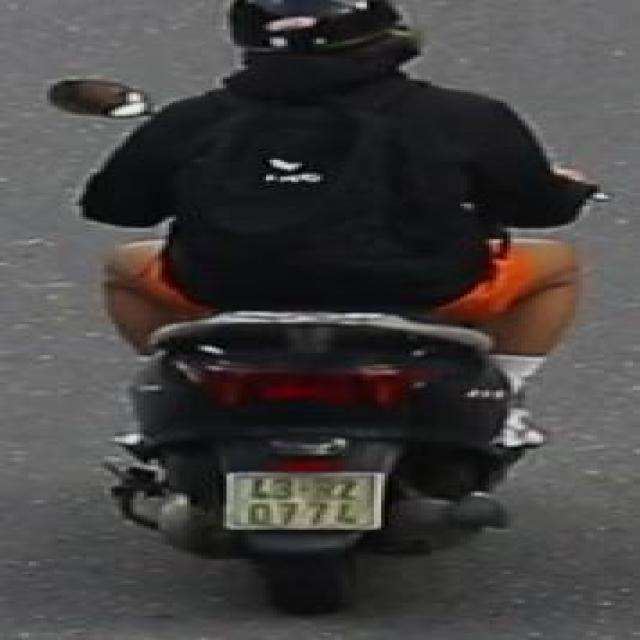LP: (208, 469, 396, 542)
